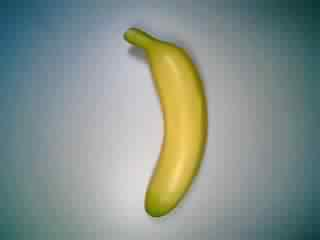banana: (115, 22, 213, 222)
